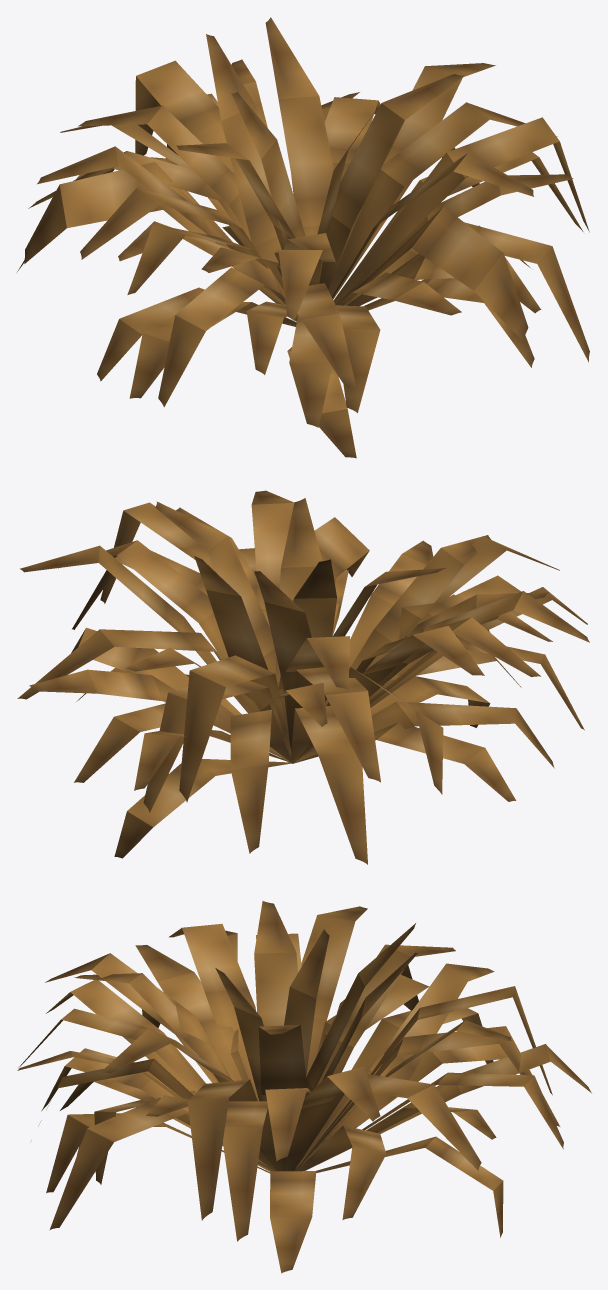
The model's file is Poly_Weed_Plant_01_Dead.obj.
The picture shows the model from 3 angles, top to bottom: view 1: azimuth 30°, elevation 25°; view 2: azimuth 150°, elevation 25°; view 3: azimuth 270°, elevation 25°; orthographic projection. The views are drawn at different scales.
Parts seen in each view (by area): view 1: Plane.001, Plane.002, Plane.003; view 2: Plane.002, Plane.001, Plane.003; view 3: Plane.002, Plane.001, Plane.003.
Boxes of the visible parts, box(x1,y1,x2,y2) form: Plane.001: box(28, 17, 573, 412); Plane.002: box(17, 60, 589, 427); Plane.003: box(60, 59, 541, 458); Plane.002: box(72, 490, 589, 864); Plane.001: box(17, 501, 548, 801); Plane.003: box(29, 535, 587, 858); Plane.002: box(38, 923, 560, 1241); Plane.001: box(41, 901, 481, 1273); Plane.003: box(17, 930, 591, 1237).
Bounding box in the file's own units: 0.4485 × 0.2502 × 0.4814.
1 material, 1 textured.
